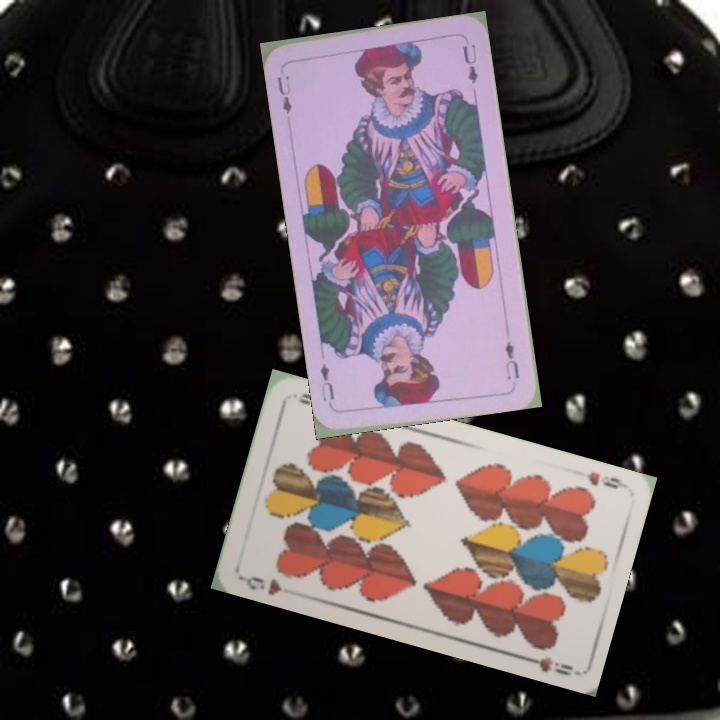EU: (273, 71, 295, 117), (501, 337, 522, 383)
H9: (238, 572, 285, 597), (582, 467, 628, 492)
